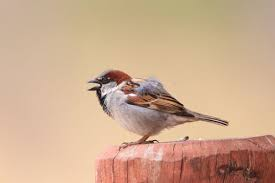hsparrow: (84, 67, 232, 154)
